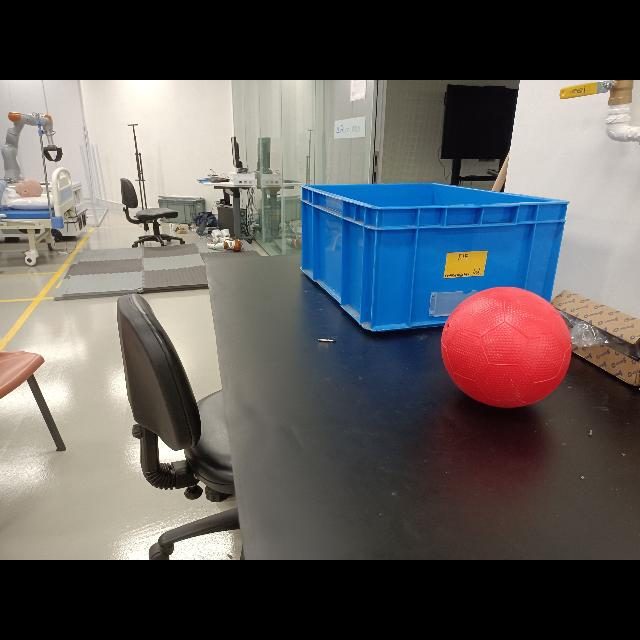R: (438, 288, 572, 404)
